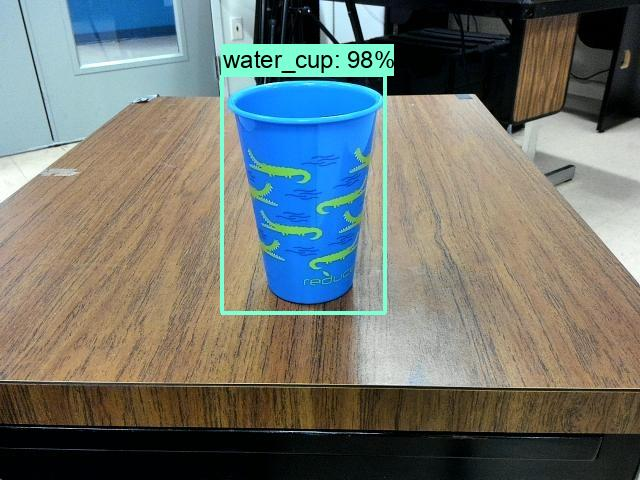water_cup: (218, 74, 384, 315)
